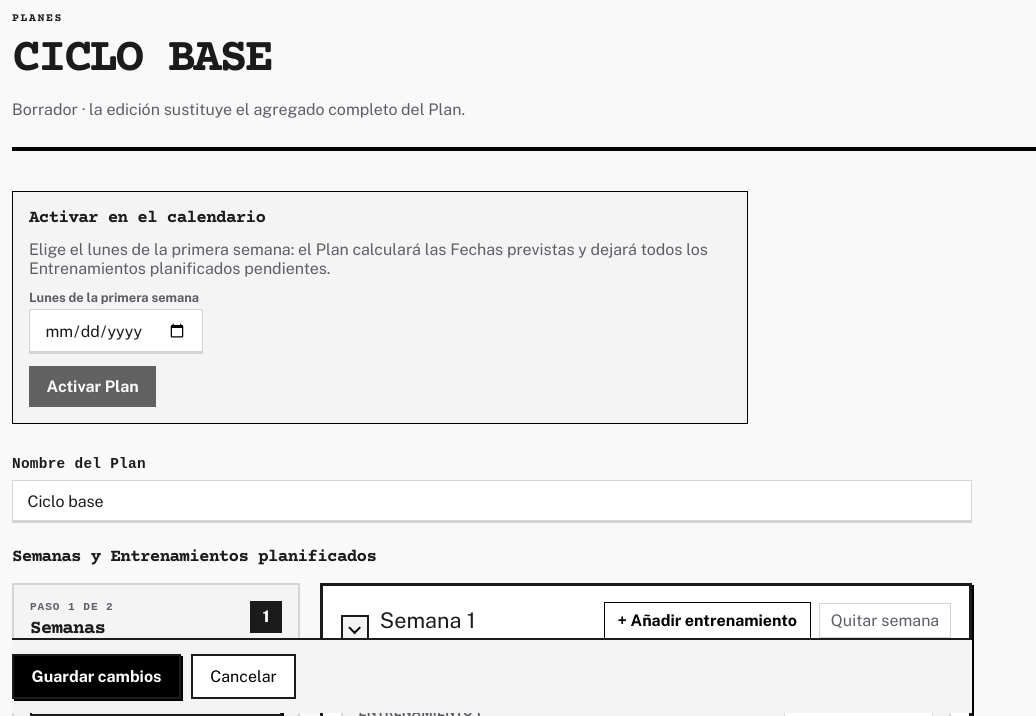
Scenario: editar un Plan › una revisión obsoleta informa del conflicto y carga la versión vigente sin mezclar
This screenshot has width=1036, height=716.
Replace the text in the field labelled "Nombre del Plan" with "Cambio ajeno" at (492, 501), box top-left (12, 480), bottom-right (972, 523)
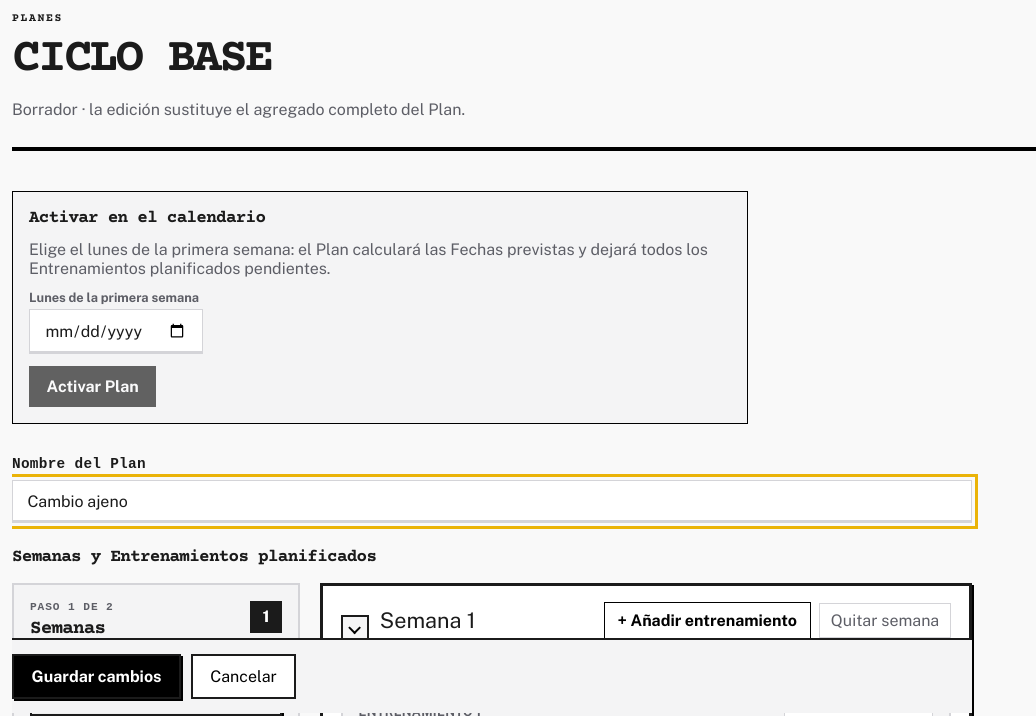
Click the button "Guardar cambios" at (97, 676), box top-left (12, 654), bottom-right (181, 699)
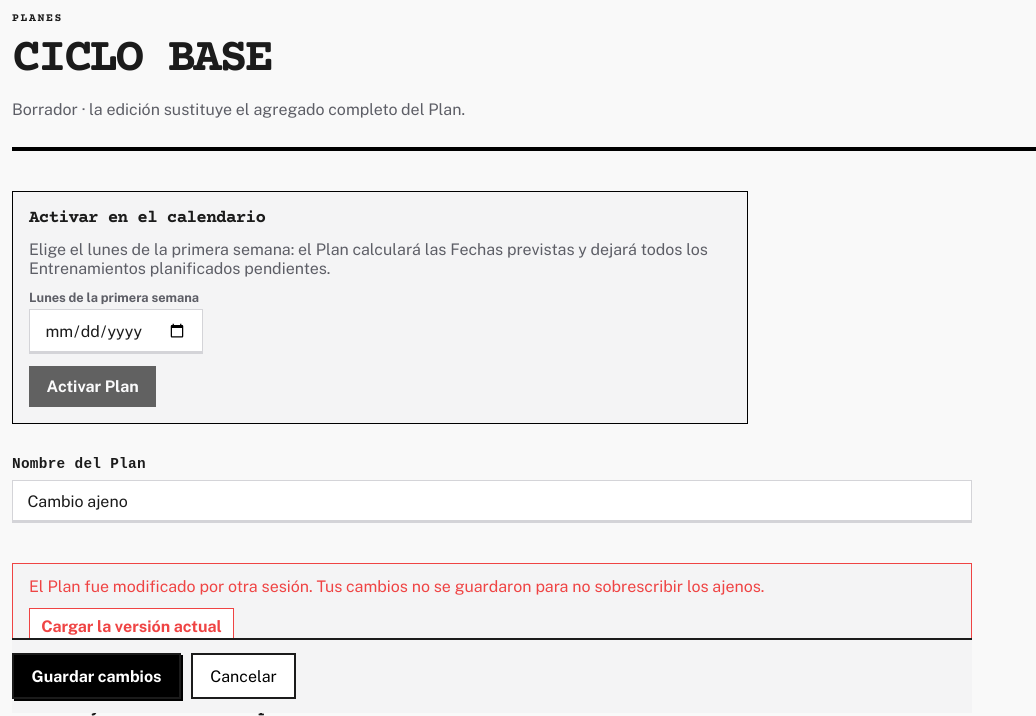
Check: the message shows "modificado por otra sesión", box top-left (29, 577), bottom-right (764, 596)
Click the button "Cargar la versión actual" at (131, 626), box top-left (29, 608), bottom-right (234, 644)
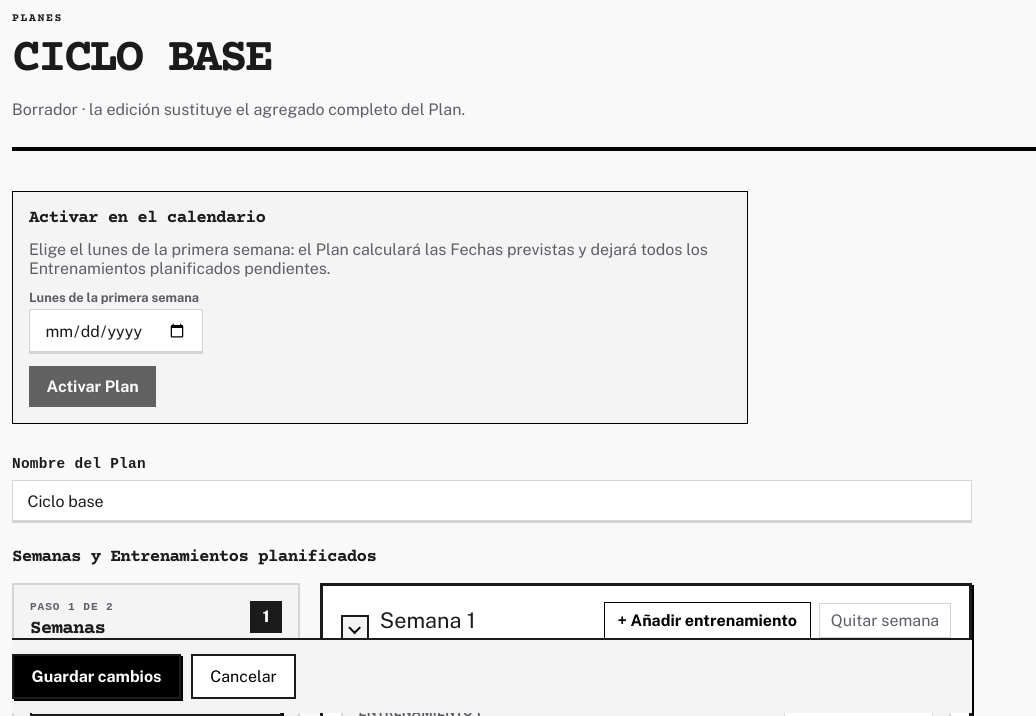
Check: the field labelled "Nombre del Plan" holds "Ciclo base", box top-left (12, 480), bottom-right (972, 523)
